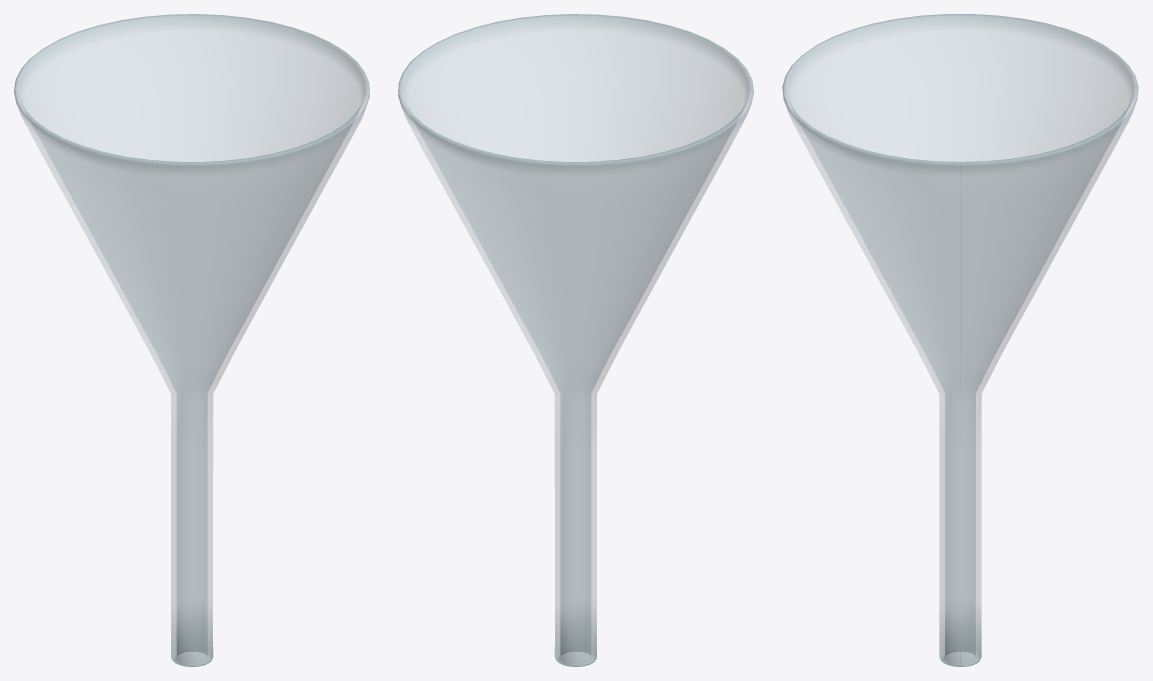
Rendered from funnel.glb.
3 renders of one model, left to right at view 1: azimuth 30°, elevation 25°; view 2: azimuth 150°, elevation 25°; view 3: azimuth 270°, elevation 25°, orthographic.
Parts seen in each view (by area): view 1: funnel-glass; view 2: funnel-glass; view 3: funnel-glass.
Boxes of the visible parts, left/top/right/bottom form: funnel-glass: left=14, top=14, right=369, bottom=666; funnel-glass: left=398, top=14, right=753, bottom=666; funnel-glass: left=782, top=14, right=1138, bottom=666.
Size of what is drawn, in the model's own units: 7.59 by 13.44 by 7.59.
